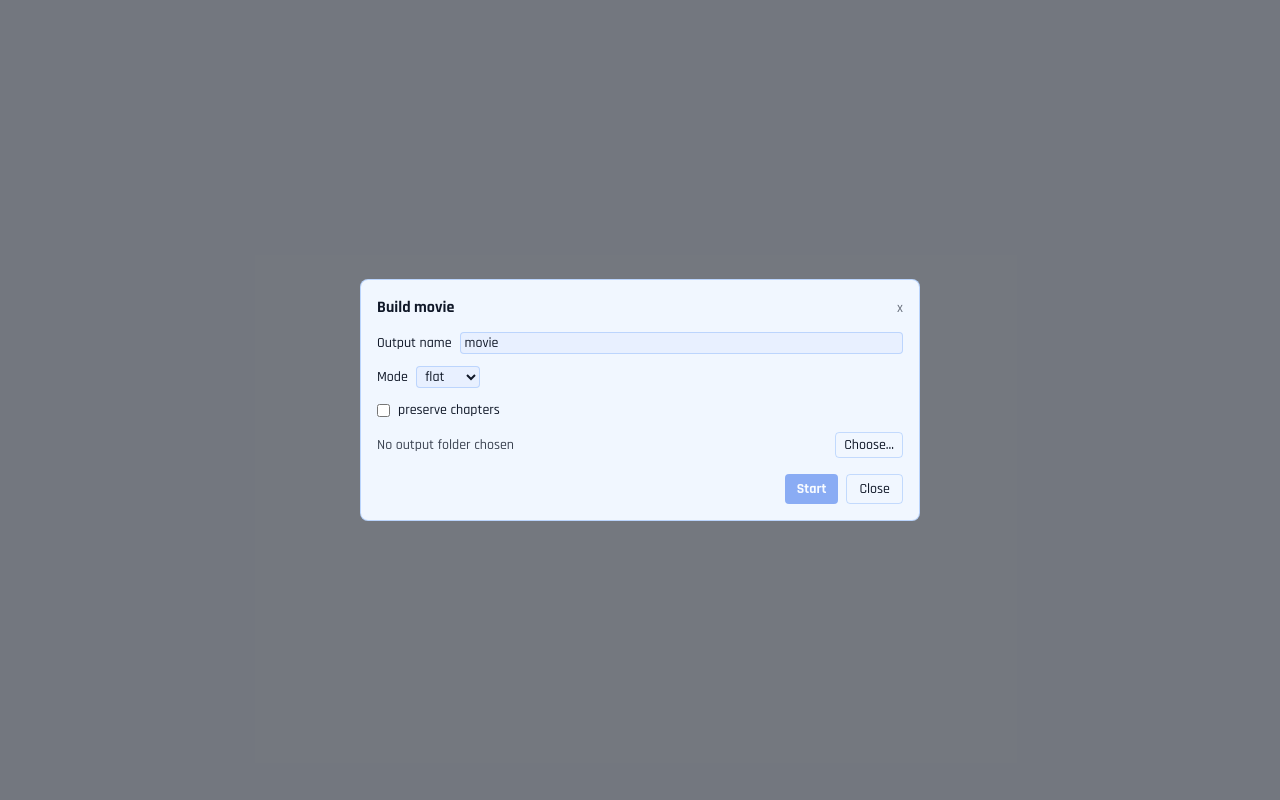
Test: BuildModal › keeps Start disabled until overwrite is checked when there are collisions
What coordinates should you click on to do the following:
click the button "Choose..."
I would click on:
 (869, 445)
Its box is [835,432,903,458].
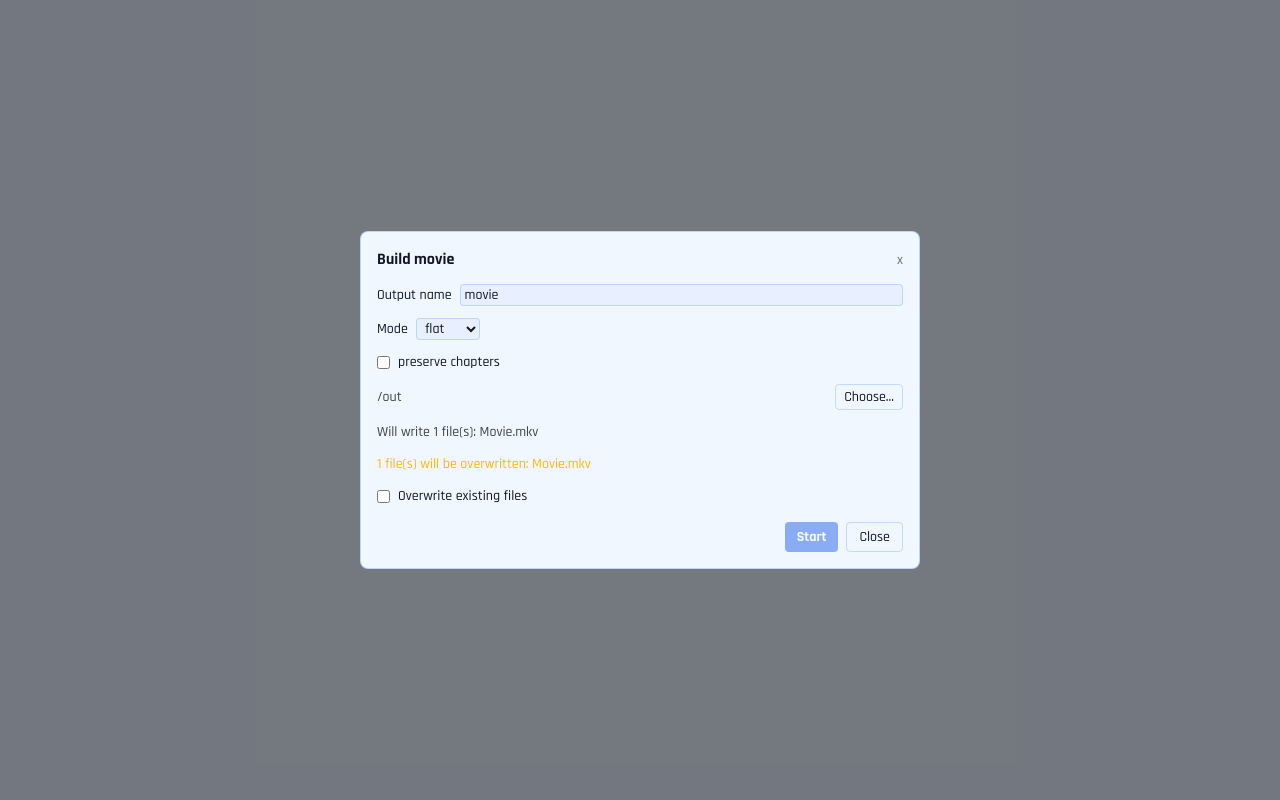
Expected: the button "Start" is disabled, [785,522,838,552]
Expected: the text "1 file(s) will be overwritten: Movie.mkv" is shown, [377,455,591,473]
What coordinates should you click on to do the following:
click the checkbox labelled "Overwrite existing files"
I would click on:
 (384, 496)
Its box is [377,490,390,502].
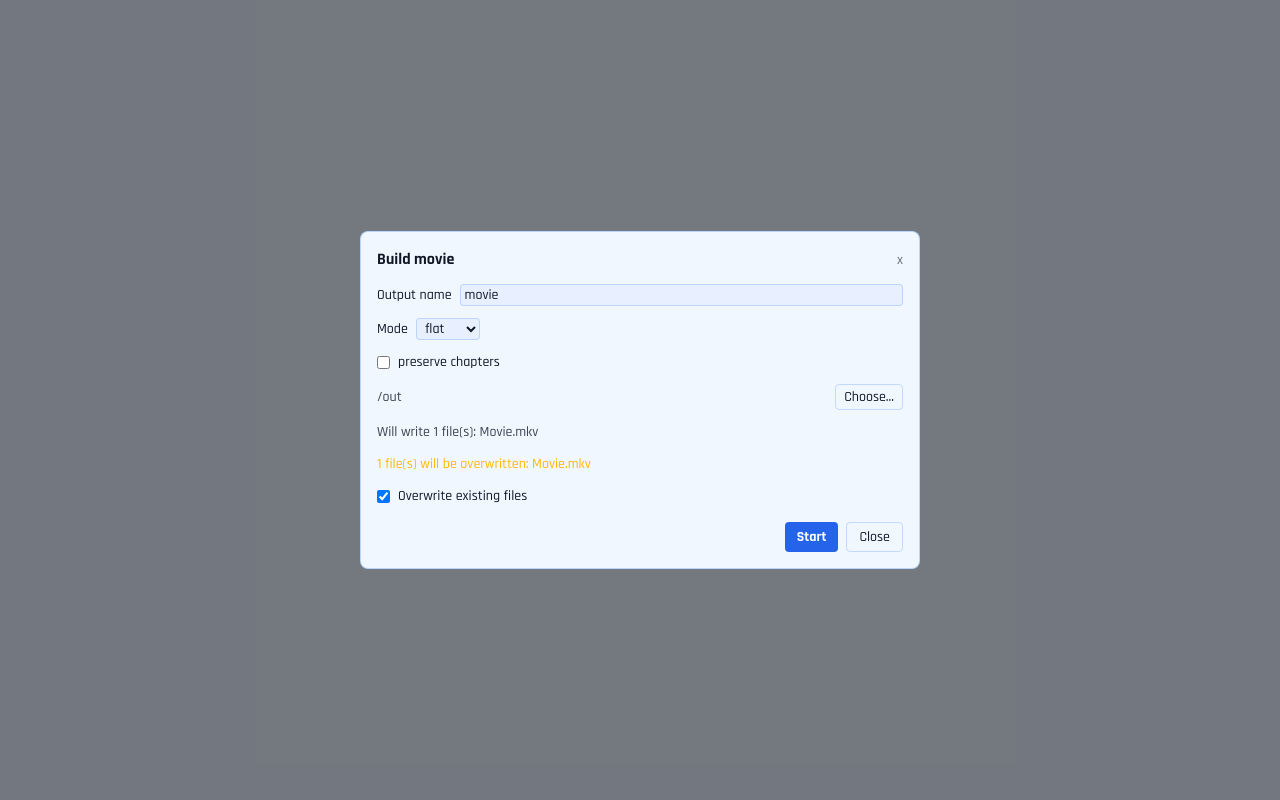
Expected: the button "Start" is enabled, [785,522,838,552]
